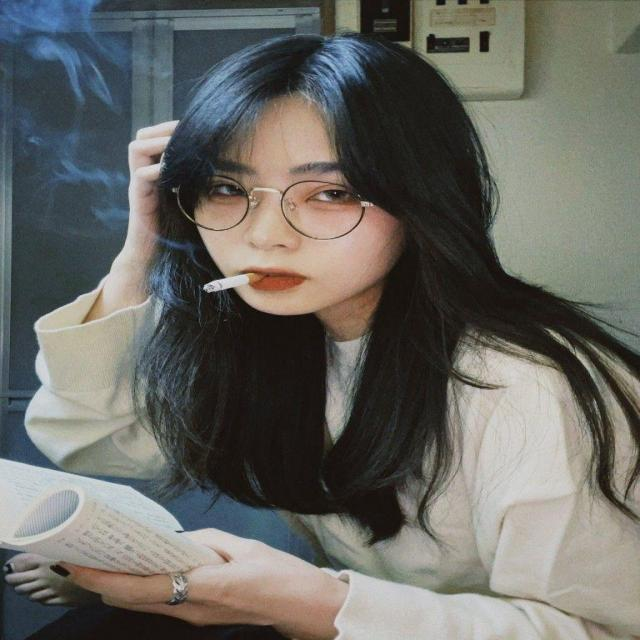cigarette: (184, 256, 278, 310)
